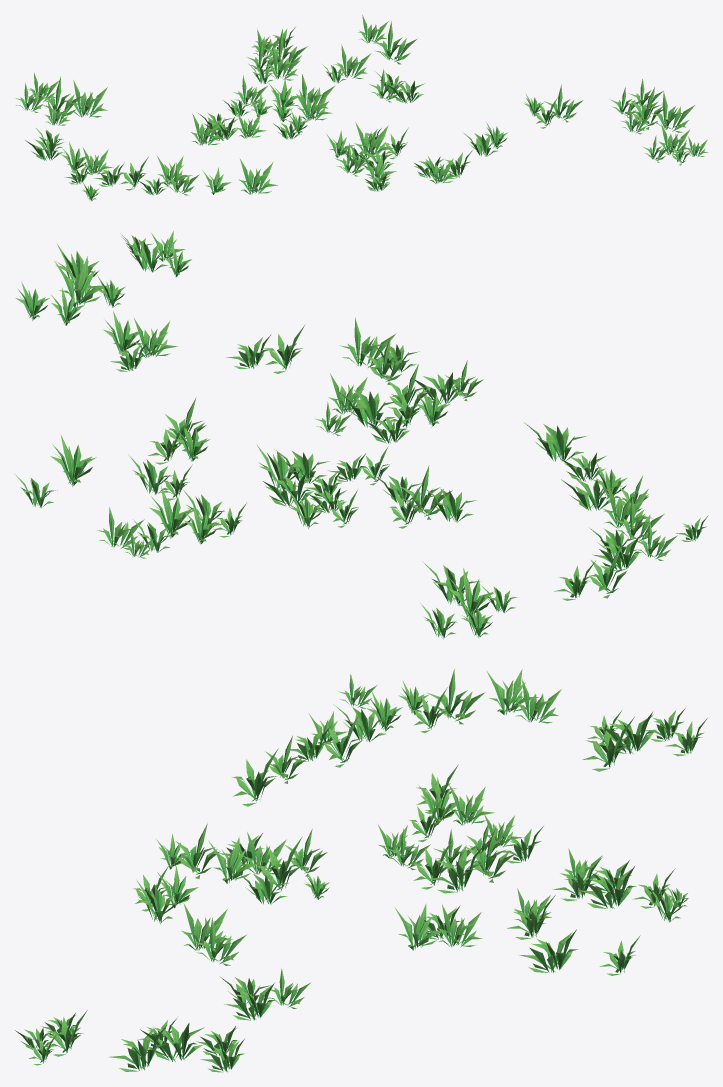
Rendered from area_07_1.FBX.
3 views of the same model, one above another, from view 1: azimuth 30°, elevation 25°; view 2: azimuth 150°, elevation 25°; view 3: azimuth 270°, elevation 25° (orthographic). The views are drawn at different scales.
Visible parts, largest first — view 1: area_07_1; view 2: area_07_1; view 3: area_07_1.
Boxes of the visible parts, x1,y1,x2,y2 form: area_07_1: [15, 15, 708, 201]; area_07_1: [14, 231, 708, 639]; area_07_1: [15, 669, 707, 1072].
Size of the model in its own units: 20.4 by 1.19 by 15.63.
